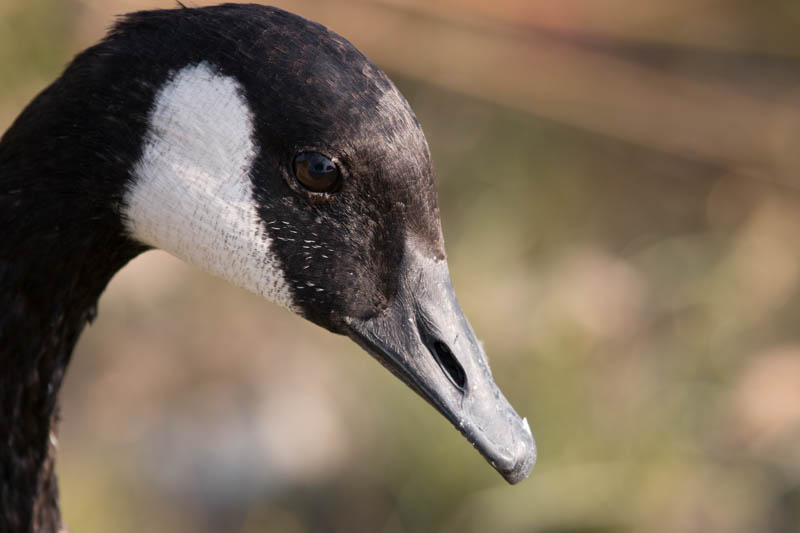goose-head: (68, 7, 537, 485)
